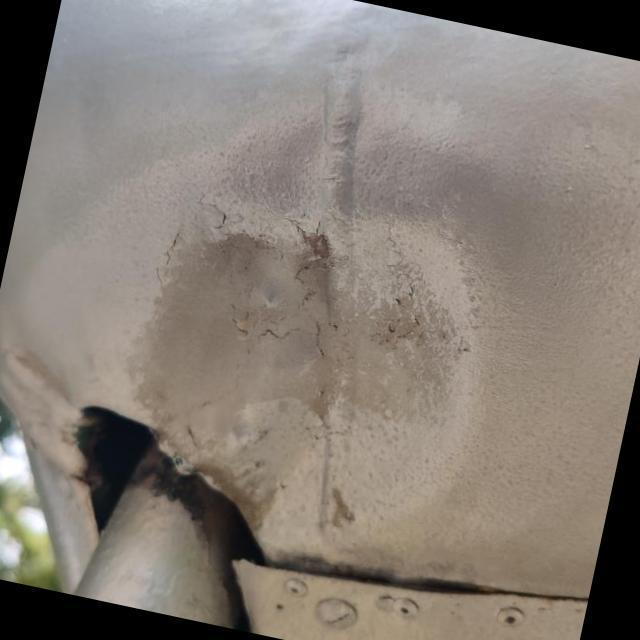Dent: (62, 116, 565, 613), (0, 319, 98, 432)
